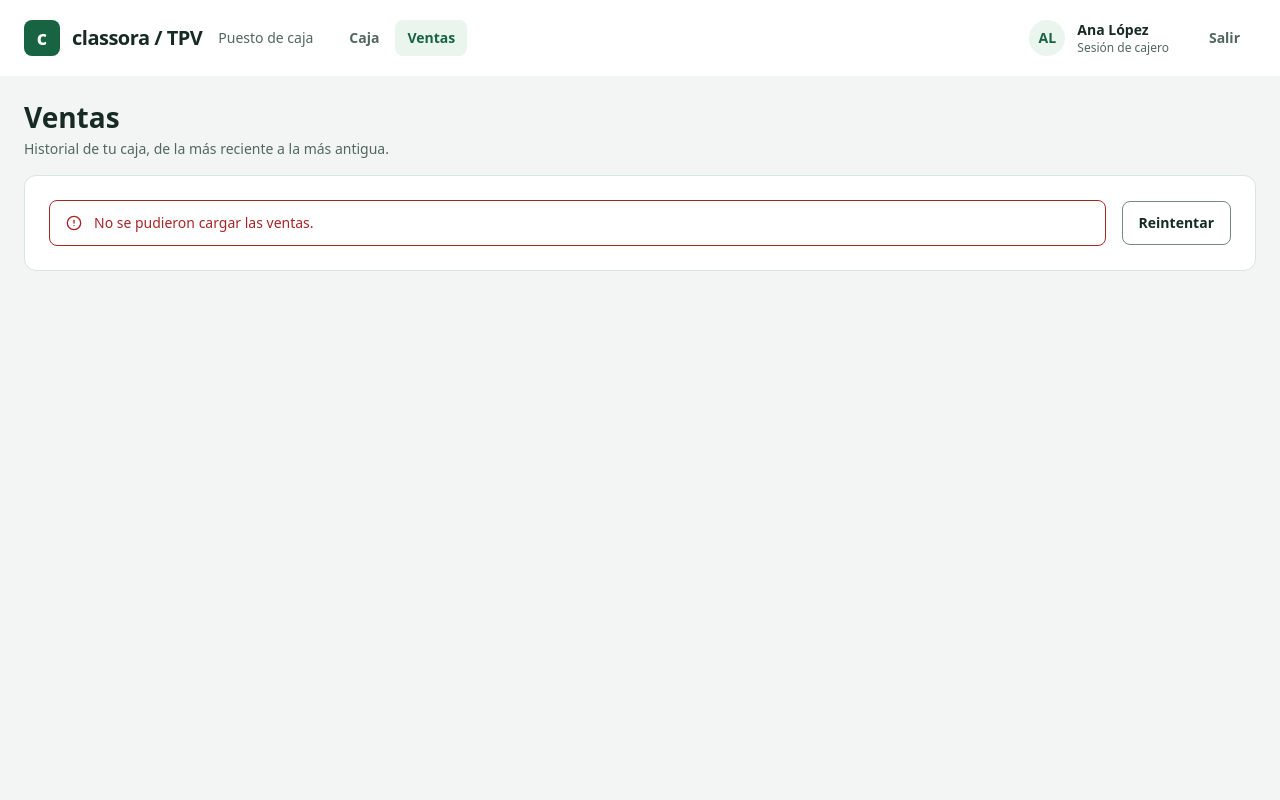
Scenario: Sales history: Screen Integration › should explain a loading error and retry
The width and height of the screenshot is (1280, 800).
Click the button "Reintentar": [1176, 223] box [1122,201,1231,245]
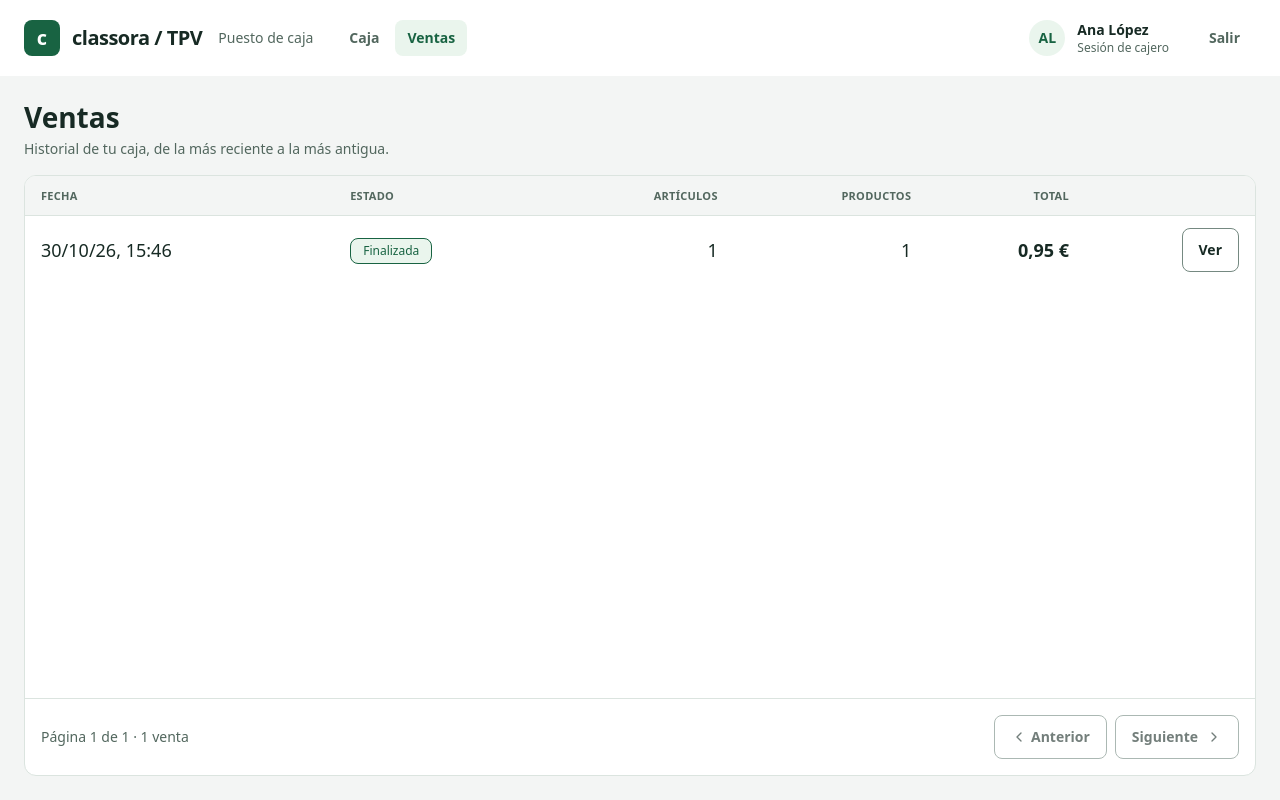
Check: the table named "Ventas de la caja" is shown, box [25,176,1255,284]
